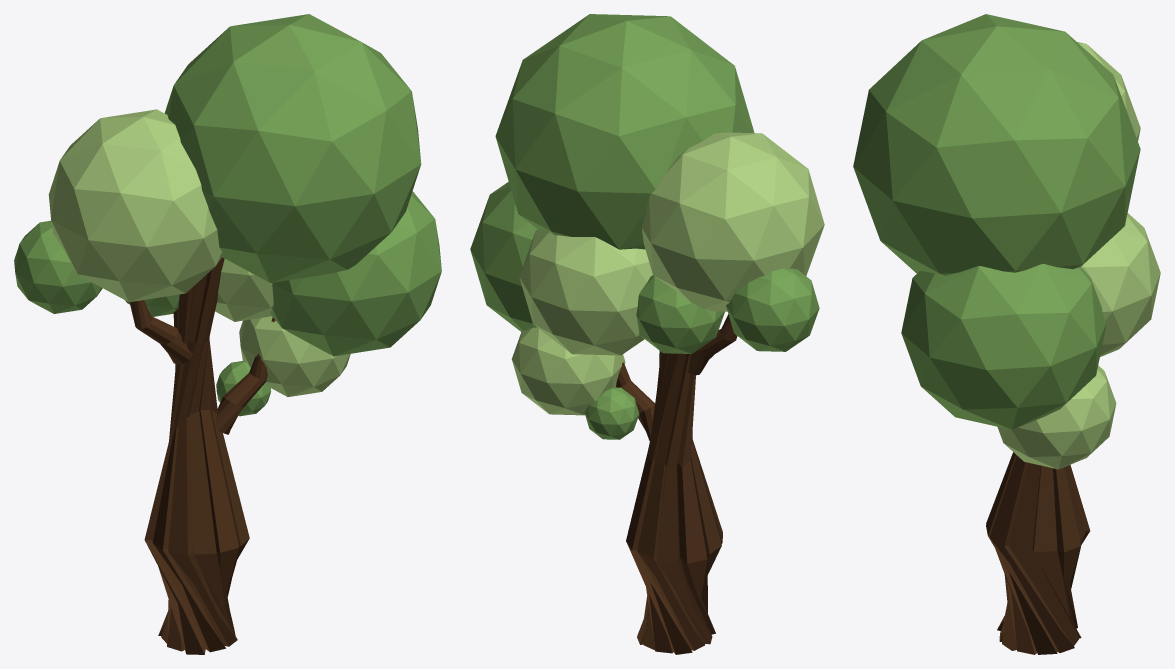
File: tree.fbx
The picture shows the model from 3 angles, left to right: view 1: azimuth 30°, elevation 25°; view 2: azimuth 150°, elevation 25°; view 3: azimuth 270°, elevation 25°; orthographic projection. The views are drawn at different scales.
Parts seen in each view (by area): view 1: Cylinder.002; view 2: Cylinder.002; view 3: Cylinder.002.
Part boxes in pixels (x1,y1,x2,y2): Cylinder.002: (14, 14, 441, 654); Cylinder.002: (470, 14, 824, 654); Cylinder.002: (853, 14, 1160, 654).
Size of the model in its own units: 584 by 902 by 388.
